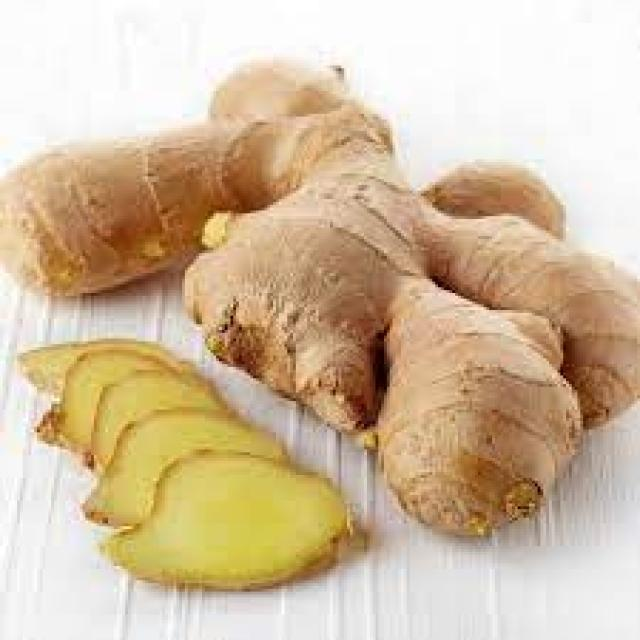ginger: (36, 80, 618, 598)
